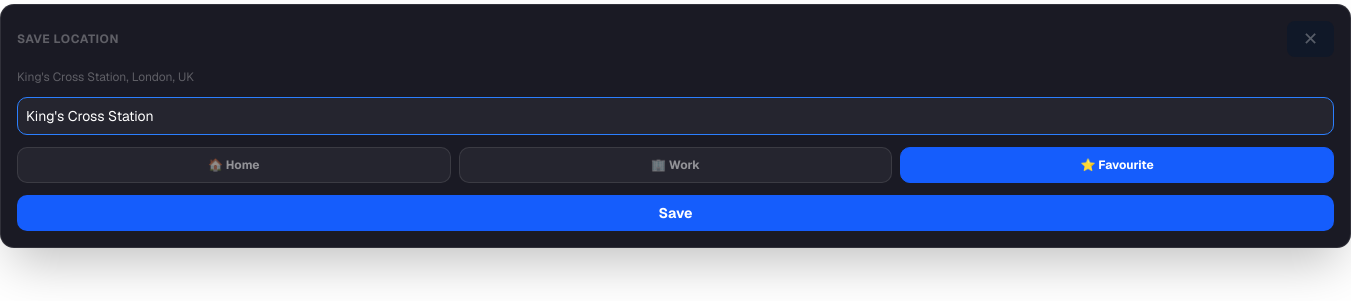
Test: SaveLocationModal › label input › should disable the Save button when the label is empty
The width and height of the screenshot is (1366, 301).
Clear the field with placeholder "Label (e.g. Home, Gym...)". click: (676, 116)
box: 17,97 -> 1334,135
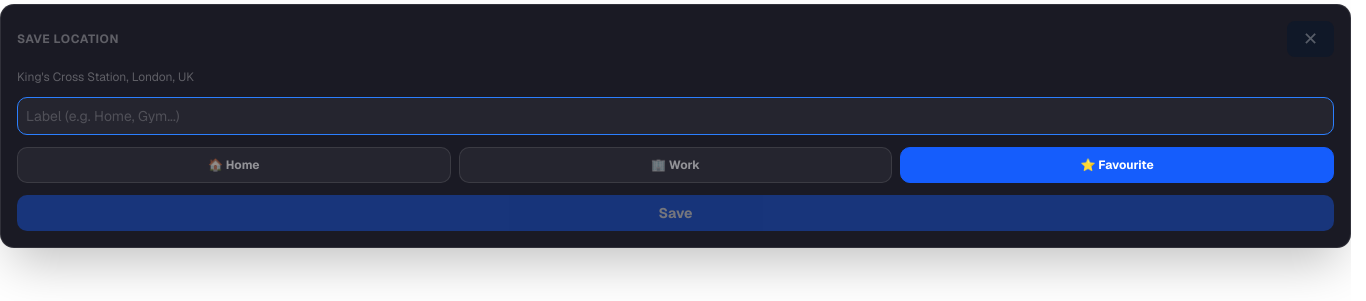
Expected: the button "Save" is disabled, 17,195 -> 1334,231
